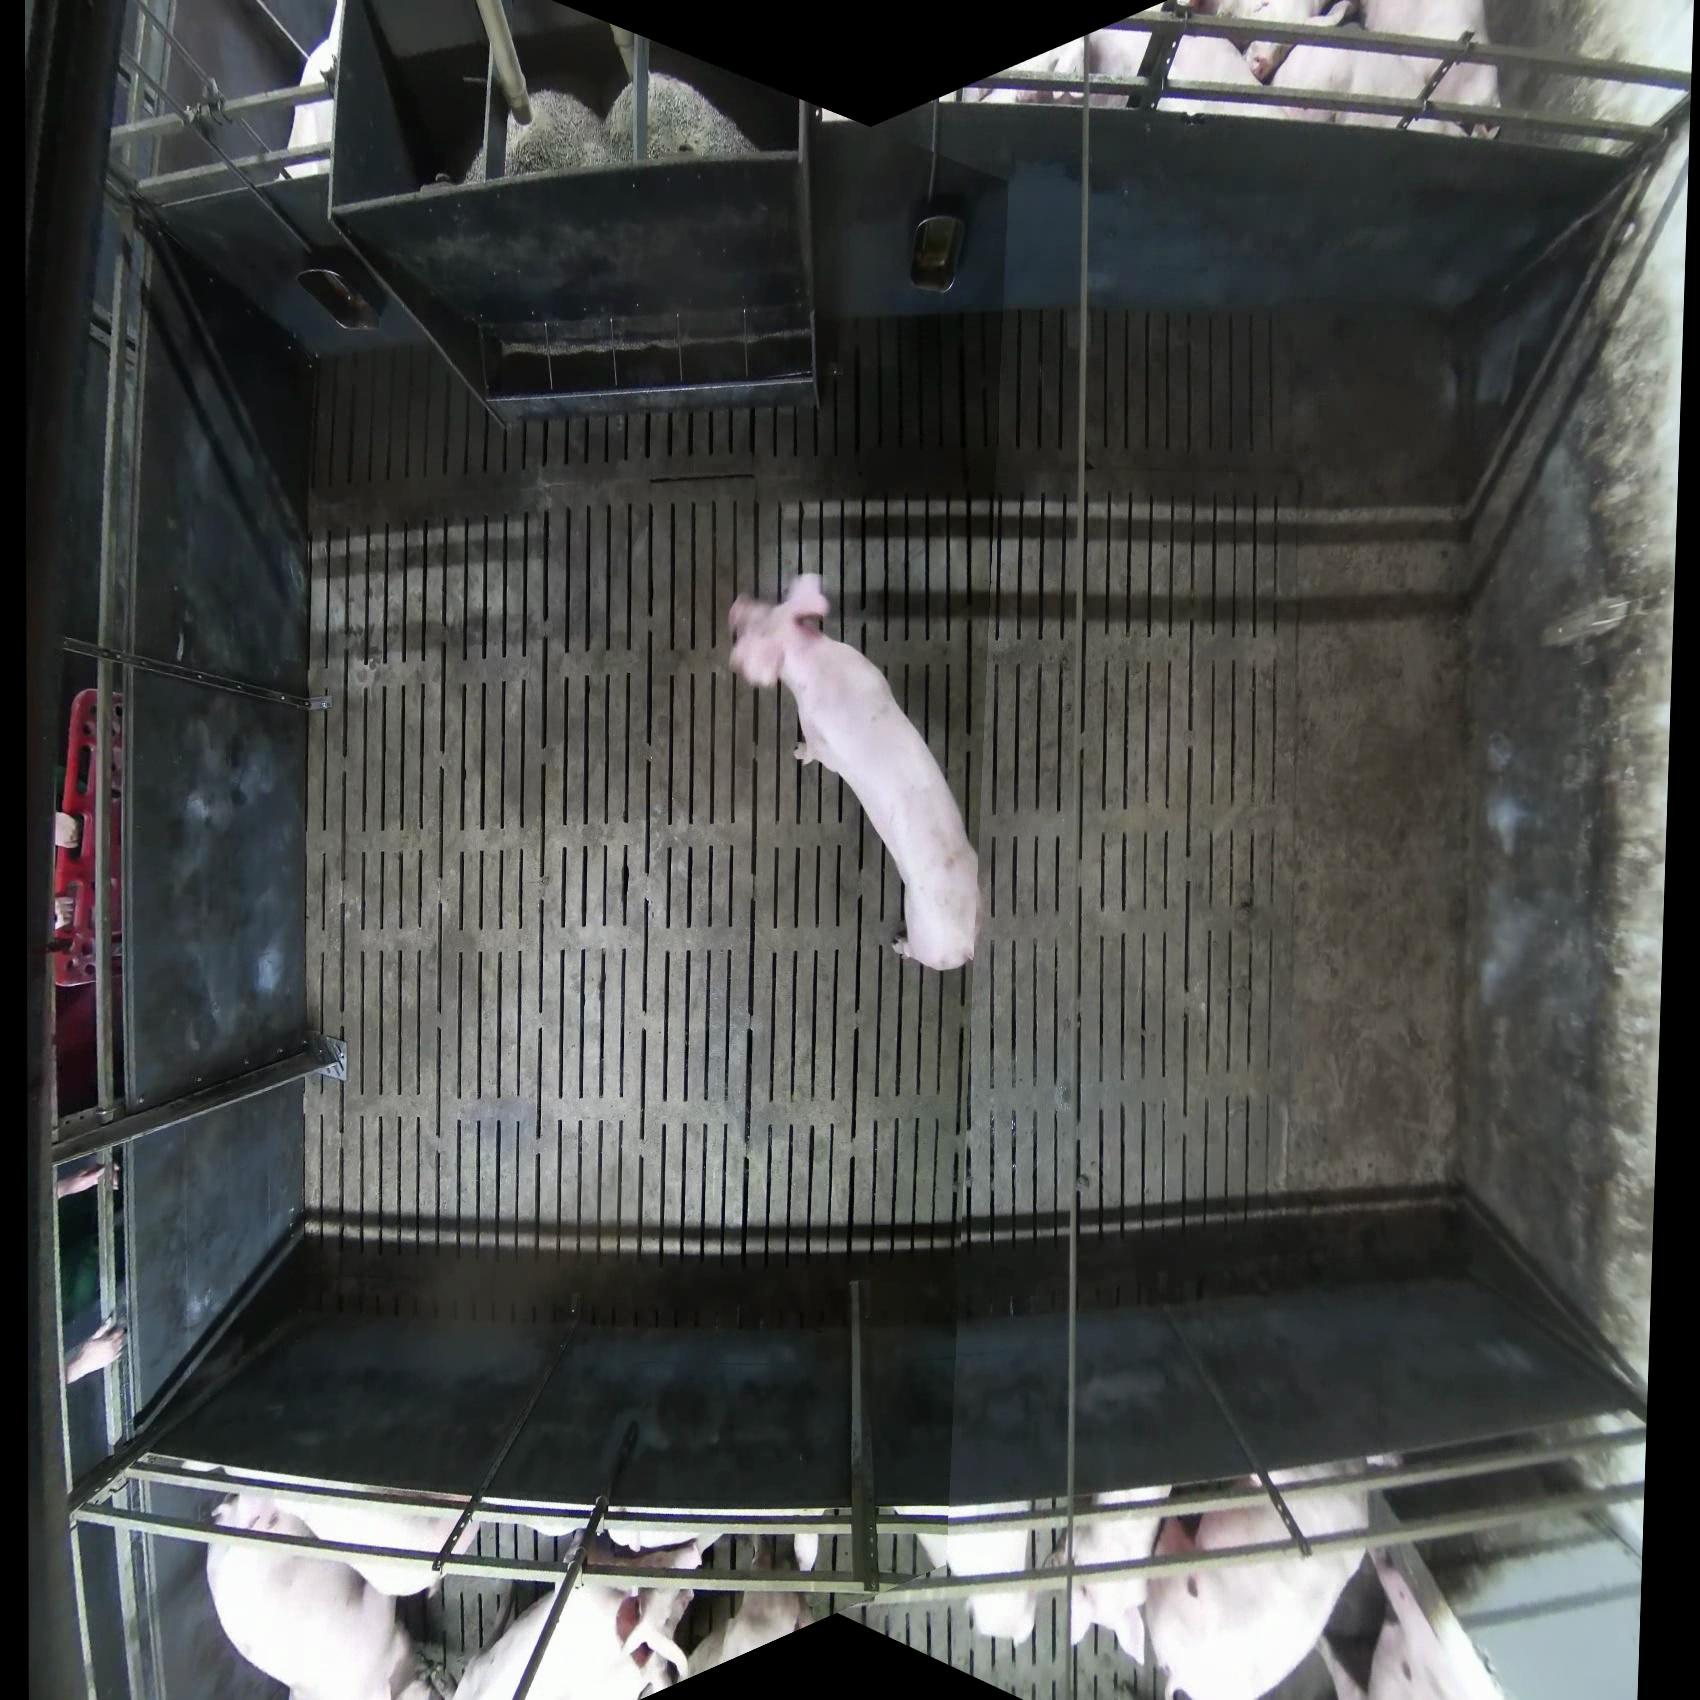pig: (725, 573, 982, 973), (1140, 1470, 1375, 1698), (450, 1524, 716, 1698), (204, 1488, 423, 1698), (685, 1529, 822, 1681), (1055, 1505, 1164, 1666)
